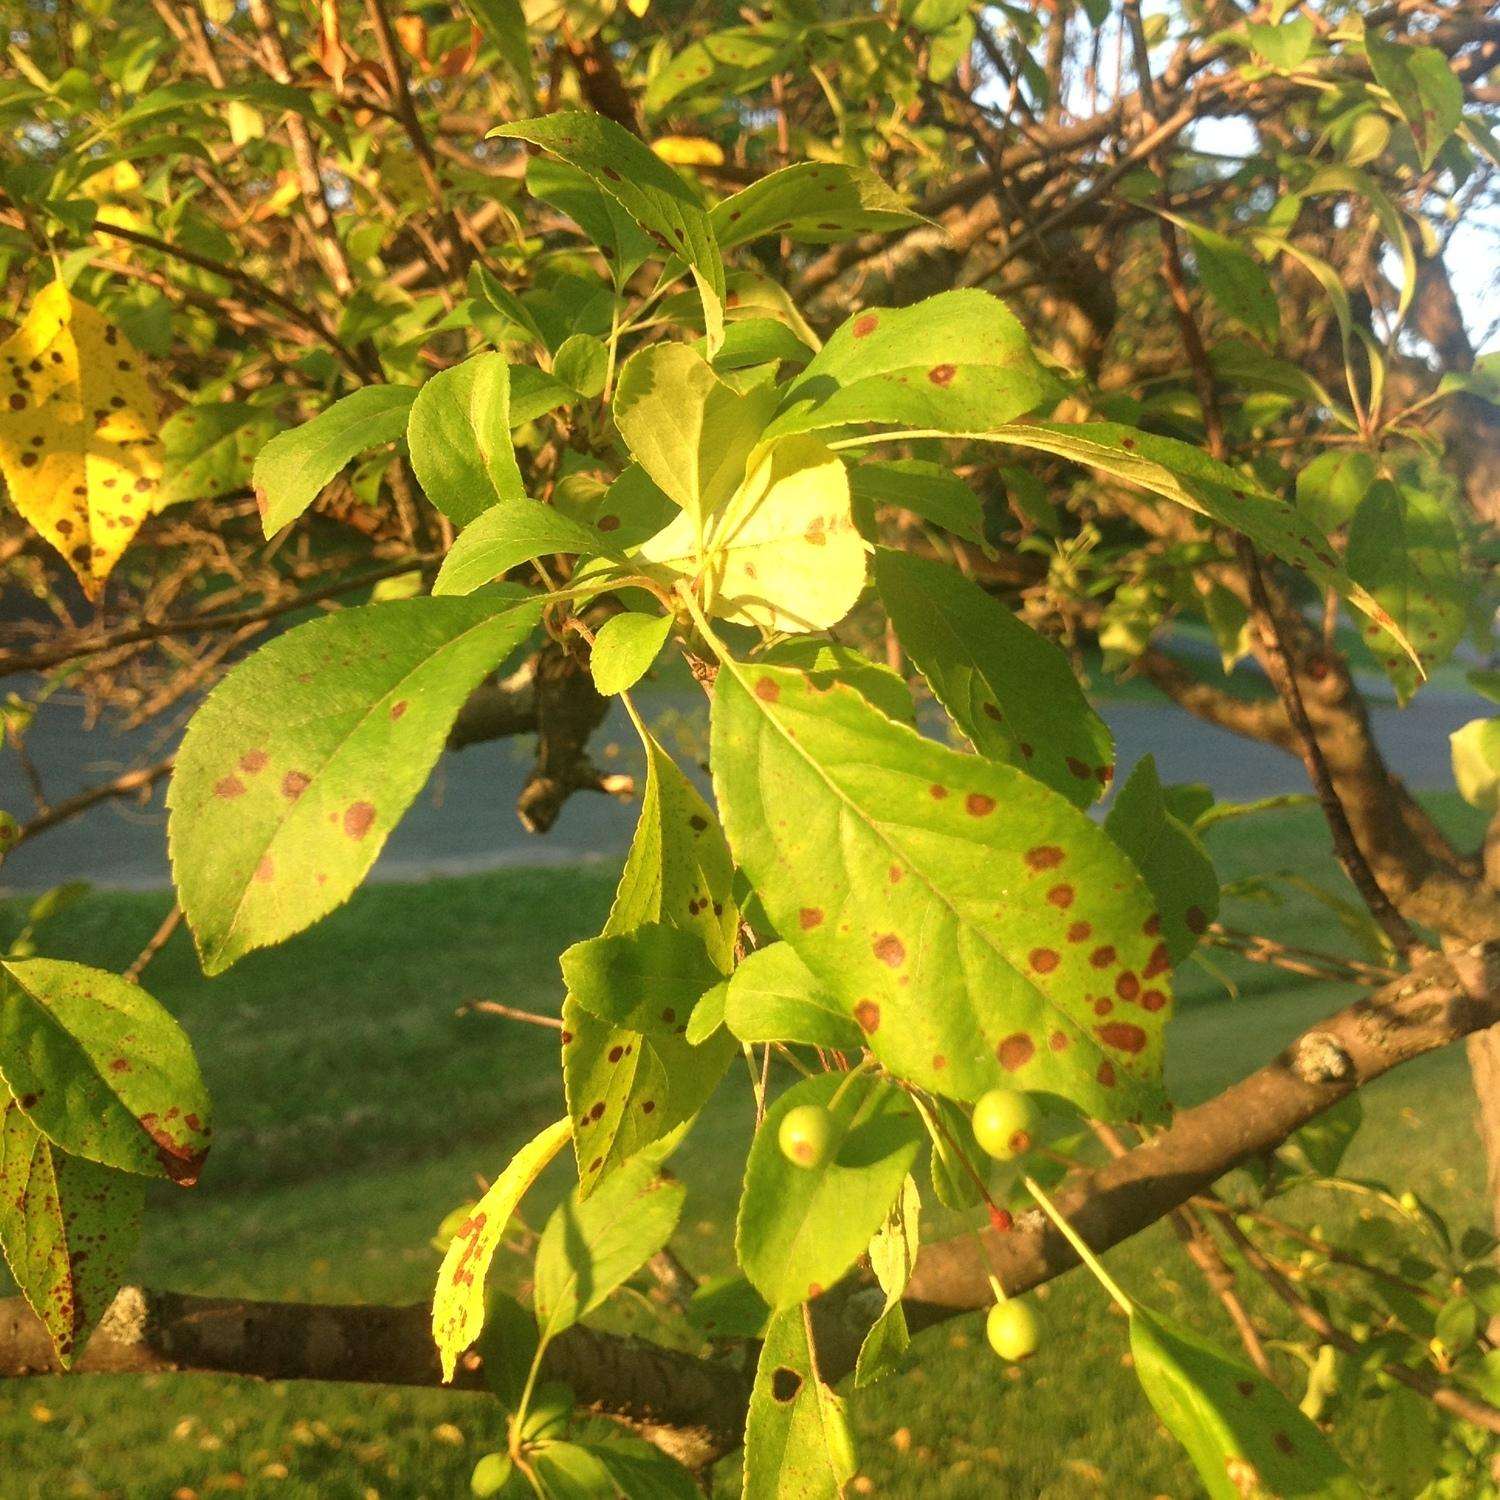Apple Scab Leaf: (690, 630, 1224, 1133), (154, 533, 554, 1032), (990, 387, 1446, 706), (749, 273, 1113, 508), (7, 944, 280, 1212), (424, 1065, 604, 1413), (4, 266, 188, 598), (1109, 1280, 1361, 1500), (1, 1120, 177, 1391), (181, 598, 198, 614)
